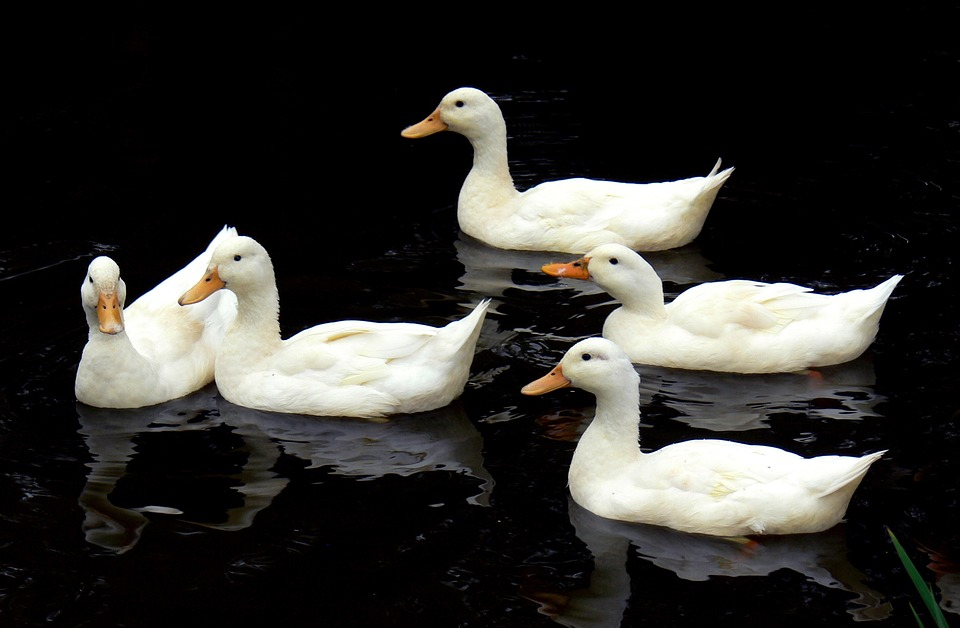Mencari Makan di Lumpur: (530, 245, 597, 289), (518, 359, 574, 404), (172, 267, 224, 308), (394, 108, 451, 144), (92, 295, 127, 340)
